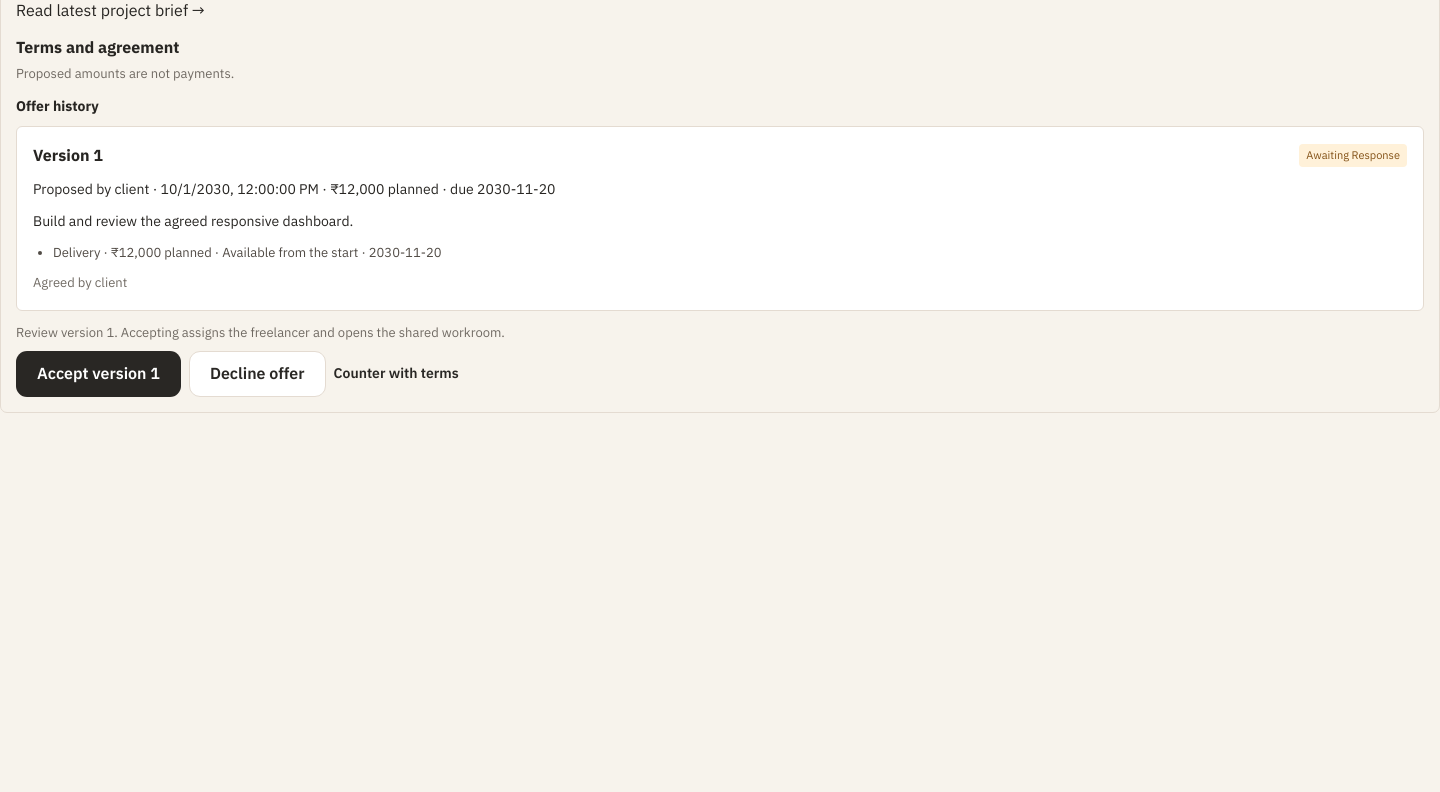
Test case: freelancer can counter by creating a new version that replaces the current offer
This screenshot has width=1440, height=792.
Step 1. Click the button "Counter with terms" → {"x": 396, "y": 374}, box [334,363,459,385]
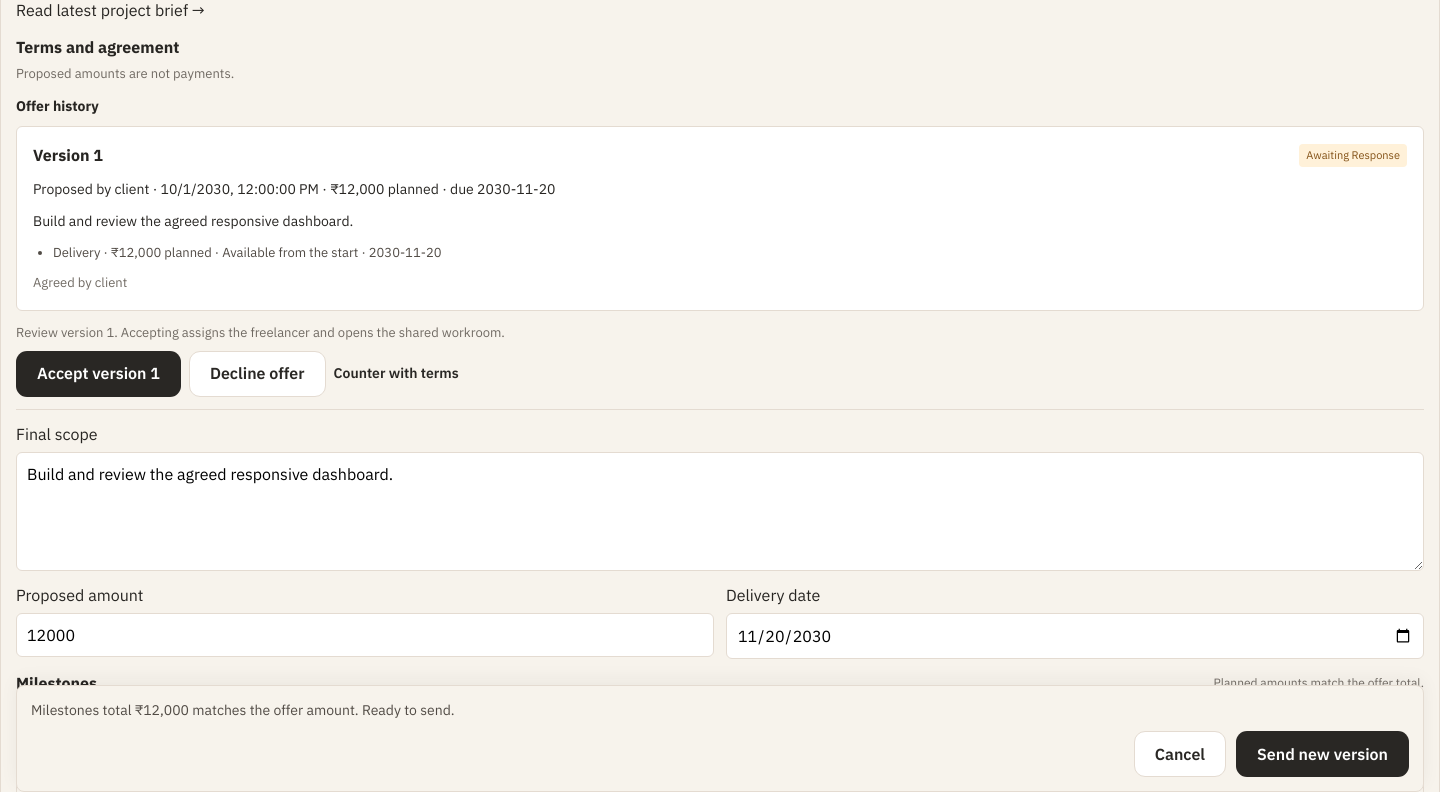
Step 2. Replace the text in the text box labelled "Final scope" with "Build, test, and review the responsive dashboard delivery." → {"x": 720, "y": 511}, box [16,452,1424,571]
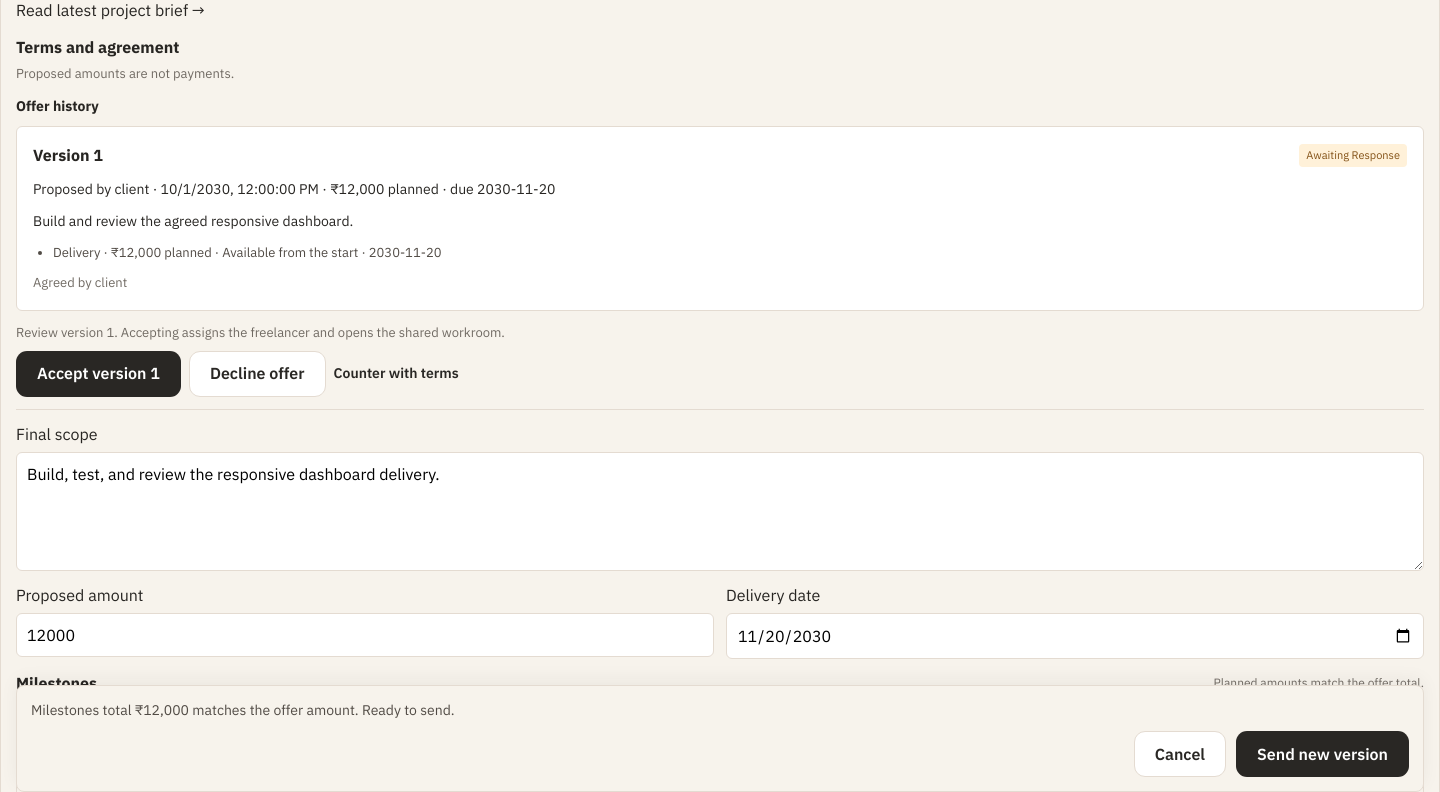
Step 3. Replace the text in the number field labelled "Proposed amount" with "11000" → {"x": 365, "y": 635}, box [16,612,714,657]
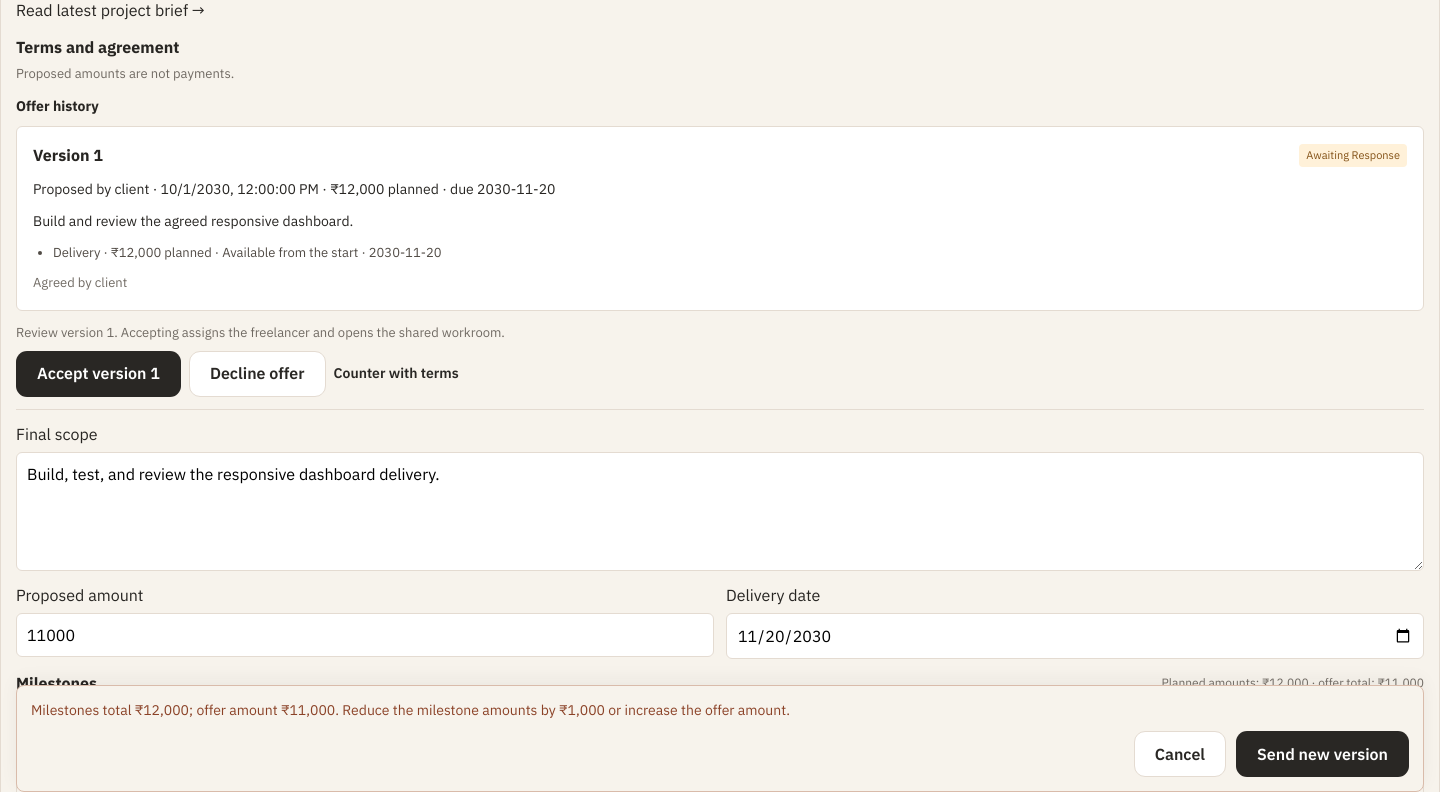
Step 4. Type "2030-11-21" into the date field labelled "Delivery date" → {"x": 1075, "y": 636}, box [726,612,1424,659]
(page scrolled)
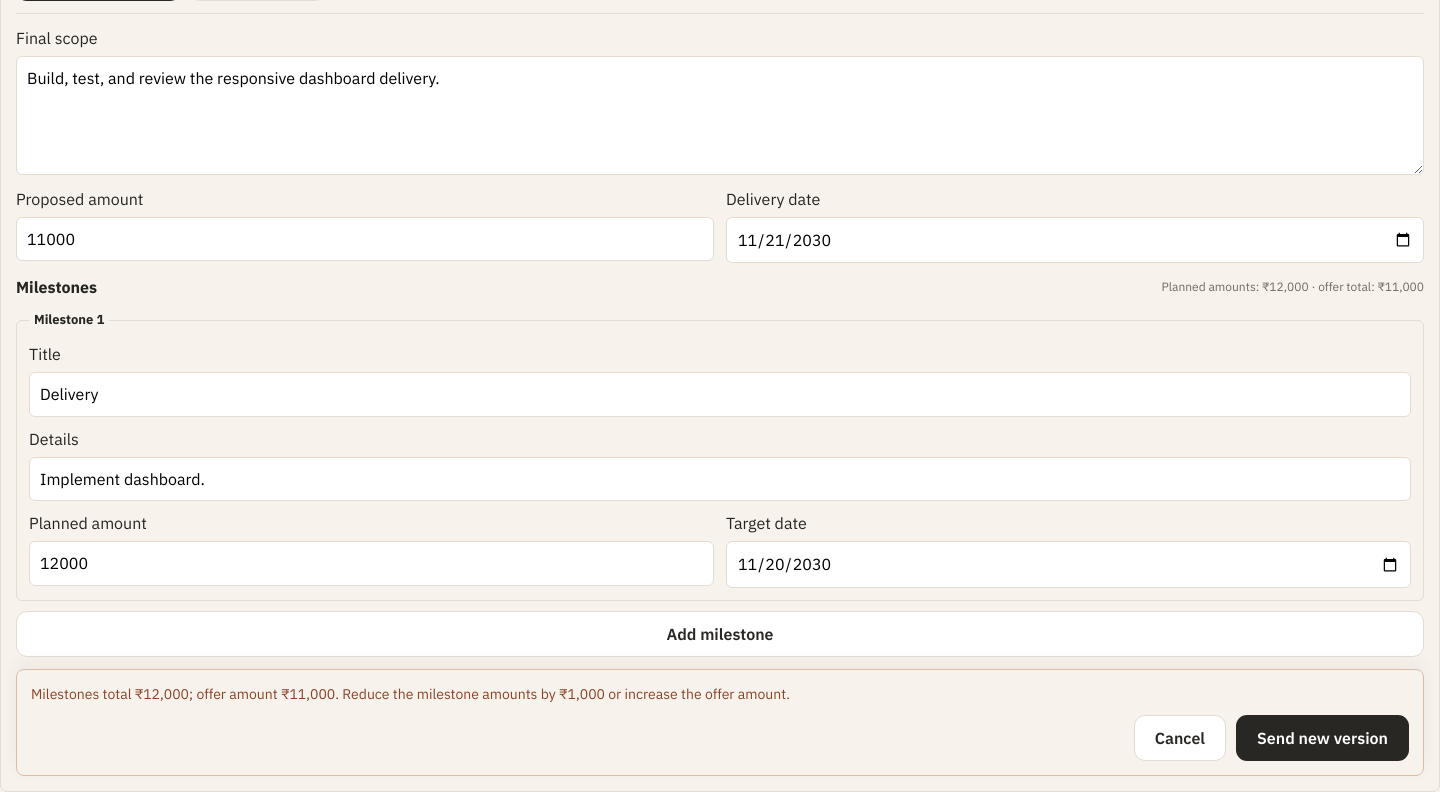
Step 5. Replace the text in the number field labelled "Planned amount" with "11000" → {"x": 372, "y": 564}, box [29,541,714,586]
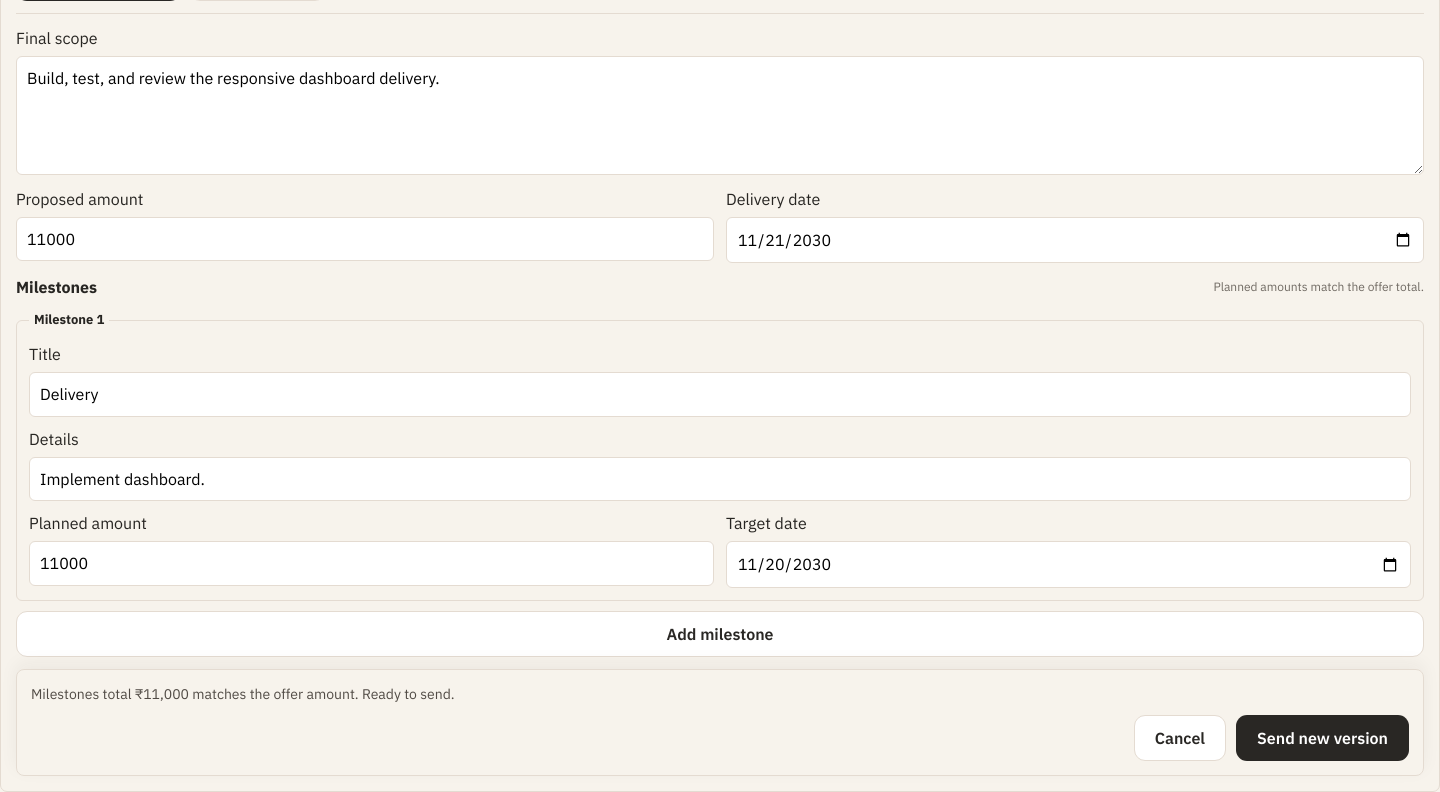
Step 6. Click the button "Send new version" → {"x": 1323, "y": 738}, box [1236,715,1409,761]
(page scrolled)
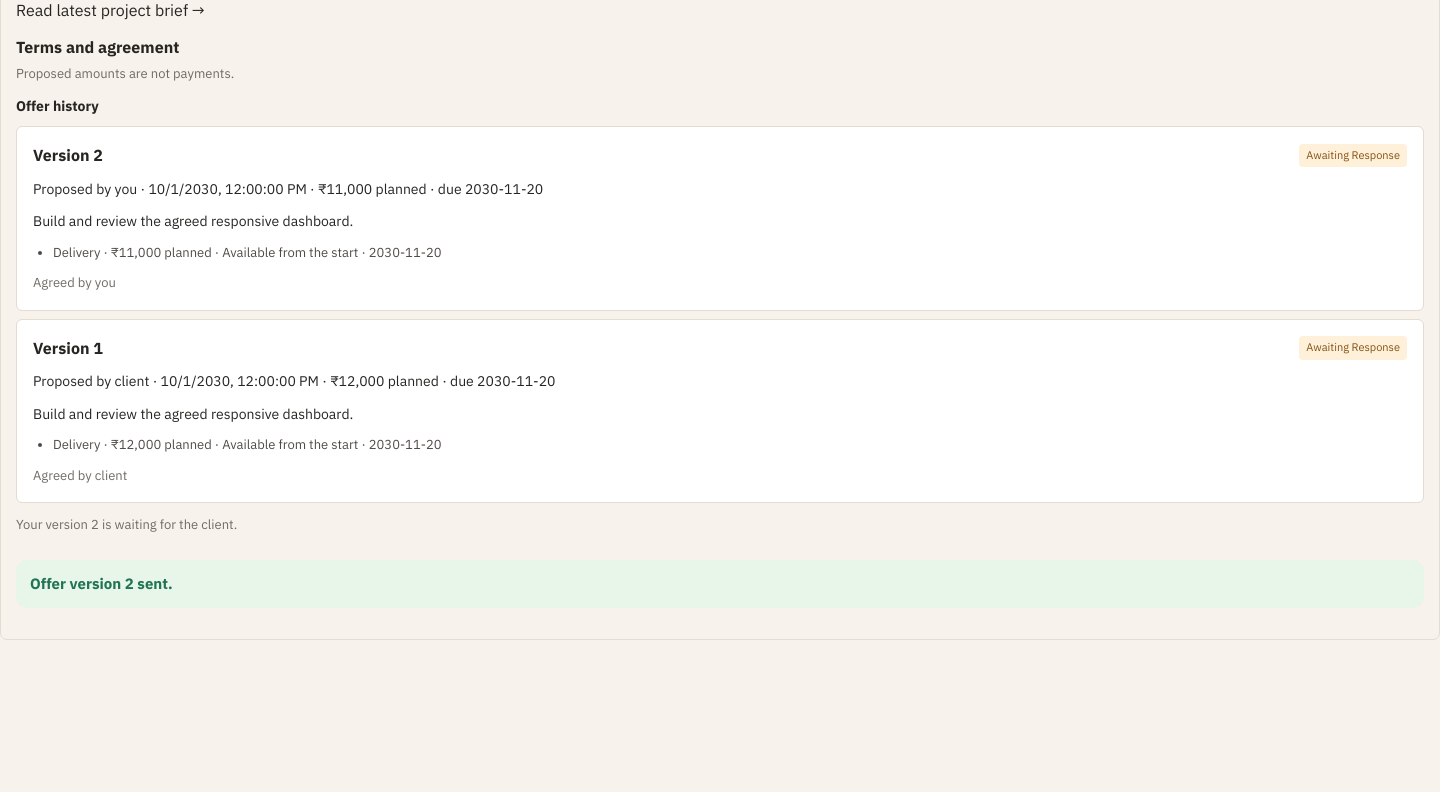
Now the text "Offer version 2 sent." is shown, box [16,560,1424,608]
